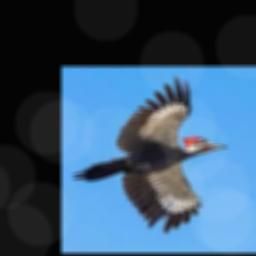Woodpecker: (72, 74, 228, 233)
